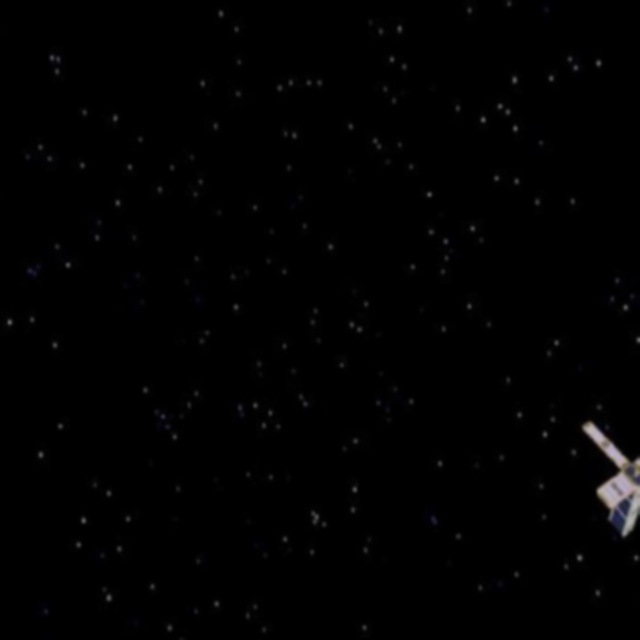satellite: (583, 404, 640, 543)
